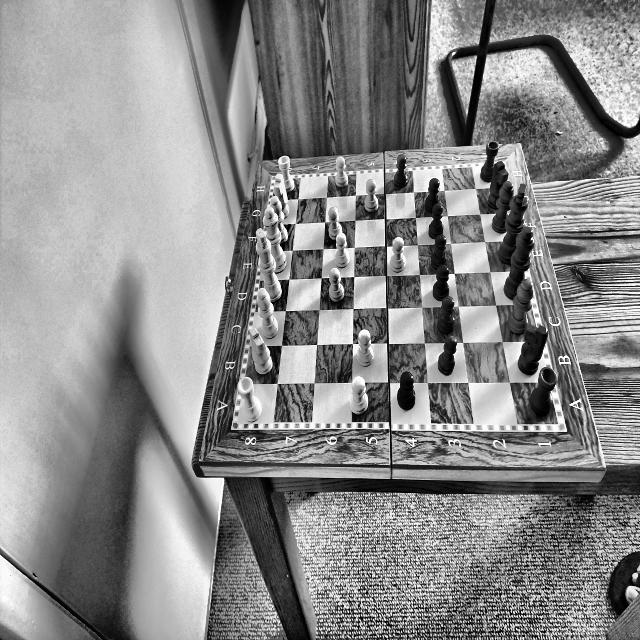black-bishop: (508, 280, 537, 334), (490, 181, 514, 235)
black-king: (498, 184, 528, 268)
black-knight: (518, 323, 546, 375), (487, 160, 509, 209)
black-pawn: (394, 369, 421, 412), (436, 297, 458, 335), (438, 340, 460, 374), (431, 264, 451, 301), (392, 152, 410, 188), (430, 235, 450, 267), (423, 177, 442, 210), (430, 204, 446, 238)
black-queen: (504, 226, 535, 301)
black-rook: (531, 363, 559, 418), (478, 140, 500, 184)
white-bishop: (254, 288, 280, 338), (271, 192, 290, 243)
white-king: (254, 230, 282, 304)
white-knight: (250, 327, 274, 378), (273, 172, 290, 216)
white-pawn: (328, 265, 352, 313), (388, 234, 408, 275), (356, 330, 376, 370), (350, 378, 372, 414), (324, 206, 344, 239), (332, 157, 352, 190), (334, 233, 351, 268), (366, 178, 380, 215)
white-queen: (260, 203, 287, 274)
white-rook: (235, 374, 268, 424), (278, 155, 294, 193)
